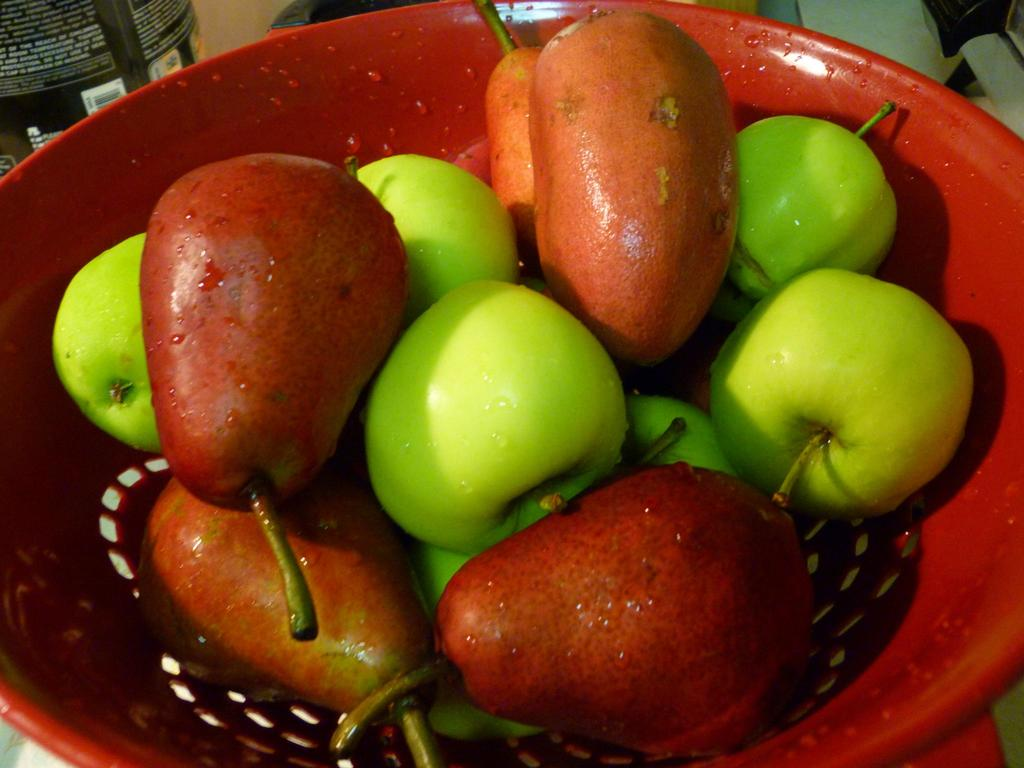Apple: (50, 97, 901, 737), (694, 275, 979, 533)
